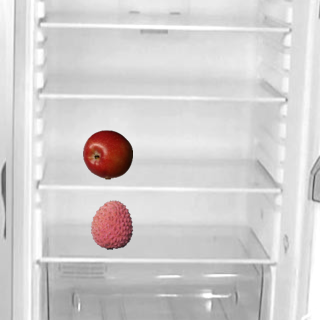Apple Braeburn: (82, 129, 132, 179)
Lychee: (86, 199, 136, 249)
